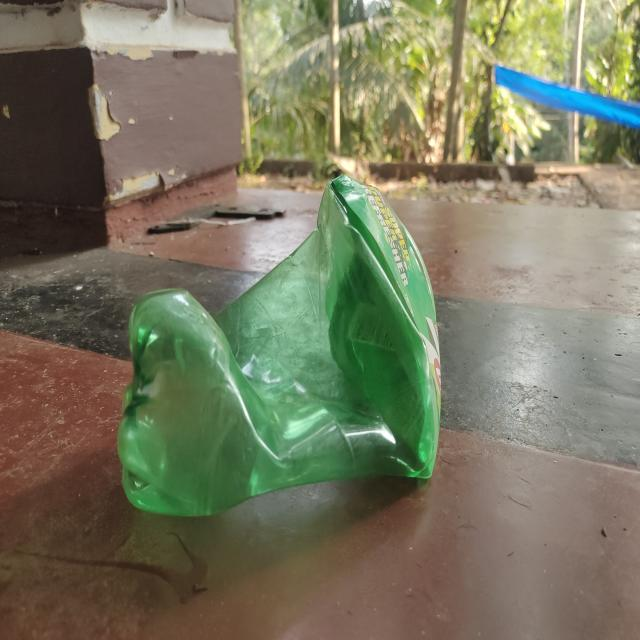plastic: (113, 160, 441, 520)
